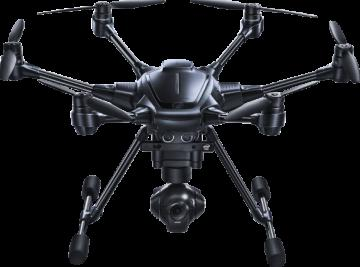drone: (1, 1, 360, 154)
